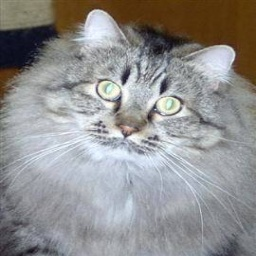cat: (5, 17, 256, 256)
